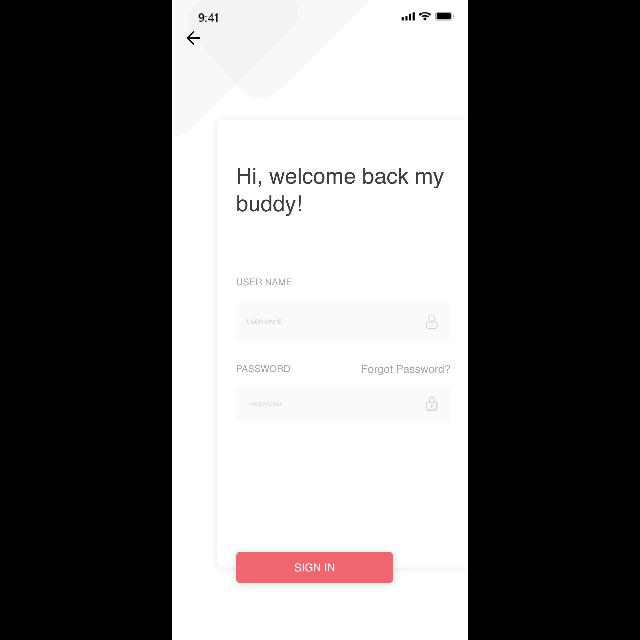icon: (187, 31, 201, 45), (426, 315, 438, 329), (427, 397, 438, 411)
input: (237, 303, 451, 341), (237, 385, 451, 423)
text: (238, 168, 444, 216), (363, 365, 451, 375), (238, 278, 292, 286), (238, 366, 290, 372), (248, 402, 282, 406), (248, 320, 282, 324)
textbutton: (236, 552, 394, 584)
uppertaskbar: (198, 12, 456, 22)
